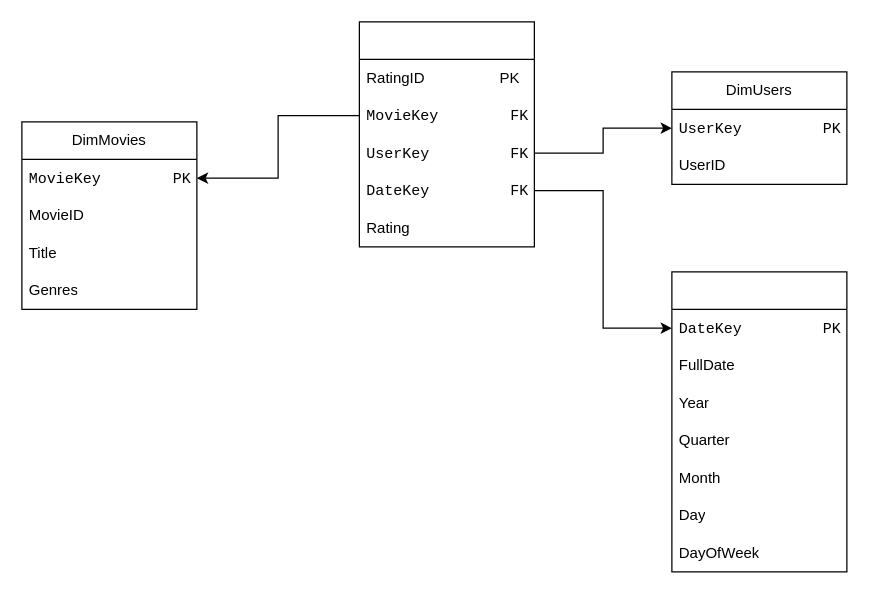
This 869x594 diagram has some shape labels left out. The box of each missing label's shape, as (x1, y1, x2, y2) in pixels:
DimDate: (671, 271, 847, 572)
FactRatings: (358, 21, 534, 247)
